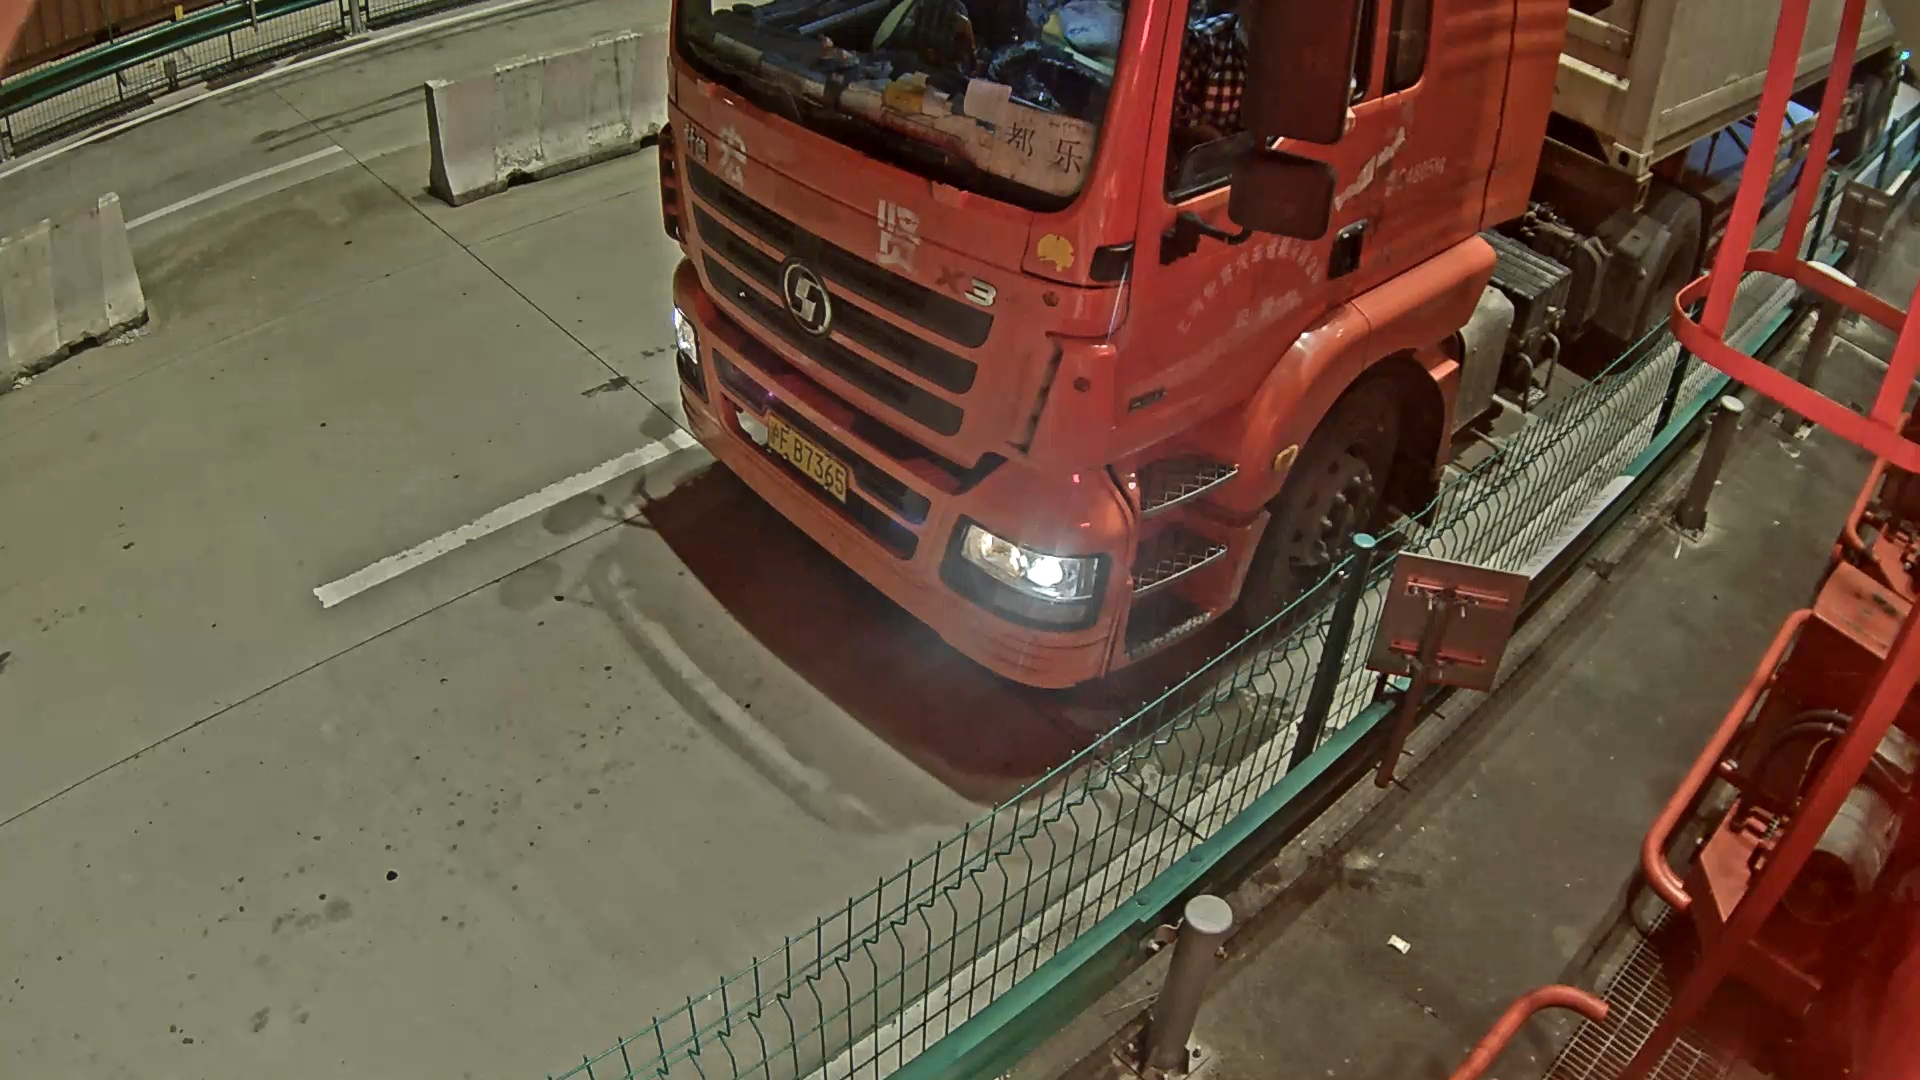head: (668, 1, 1565, 684)
plate: (762, 412, 849, 507)
